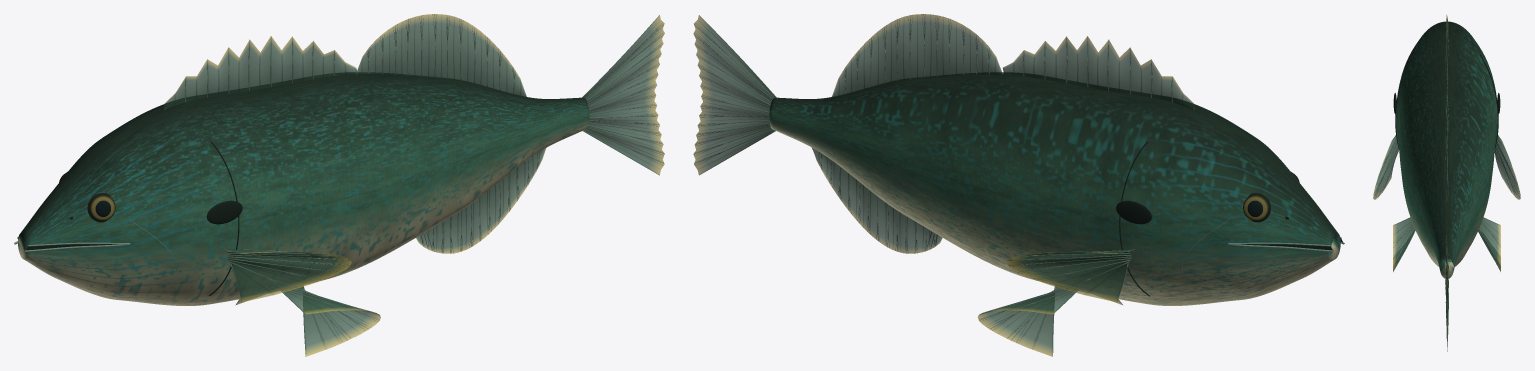
The model's file is green-sunfish.glb.
The picture shows the model from 3 angles, left to right: view 1: azimuth 30°, elevation 25°; view 2: azimuth 150°, elevation 25°; view 3: azimuth 270°, elevation 25°; orthographic projection. The views are drawn at different scales.
Parts seen in each view (by area): view 1: green-sunfish specimen; view 2: green-sunfish specimen; view 3: green-sunfish specimen.
Part boxes in pixels (x1,y1,x2,y2): green-sunfish specimen: (14,14,664,356); green-sunfish specimen: (693,14,1344,356); green-sunfish specimen: (1373,15,1520,351).
Bounding box in the file's own units: 2.23 × 0.9796 × 0.5752.
10 materials, 6 textured.
